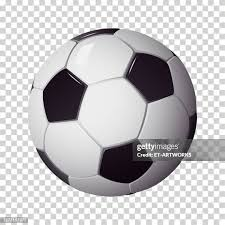football ball: (28, 27, 198, 199)
